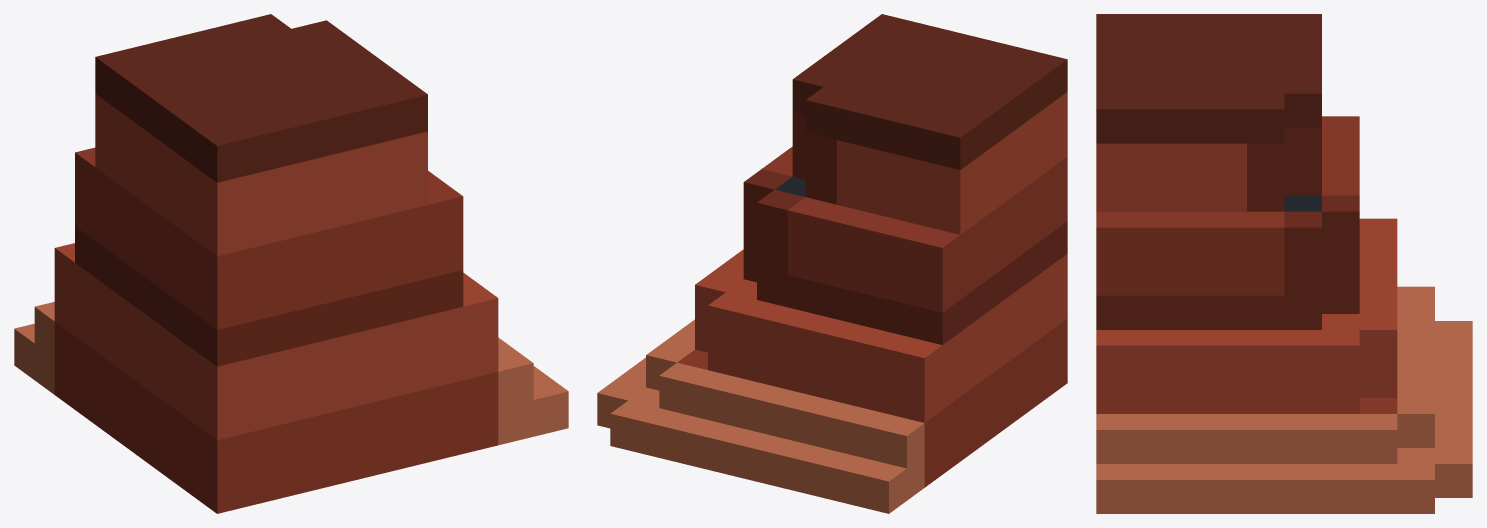
The model's file is plateau_rim_corner.glb.
The picture shows the model from 3 angles, left to right: view 1: azimuth 30°, elevation 25°; view 2: azimuth 150°, elevation 25°; view 3: azimuth 270°, elevation 25°; orthographic projection. The views are drawn at different scales.
Visible parts, largest first — view 1: rock; view 2: rock; view 3: rock.
Part boxes in pixels (x1,y1,x2,y2): rock: (14,14,568,513); rock: (597,14,1067,513); rock: (1096,14,1472,513).
Size of the model in its own units: 10 by 10 by 10.
